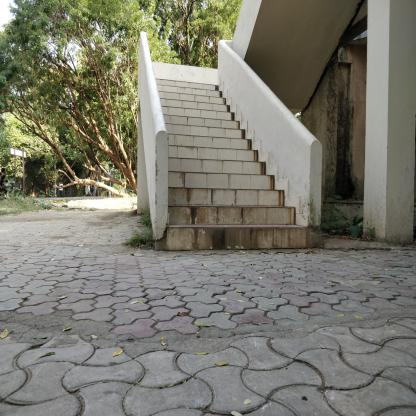stairs: (170, 87, 220, 261)
